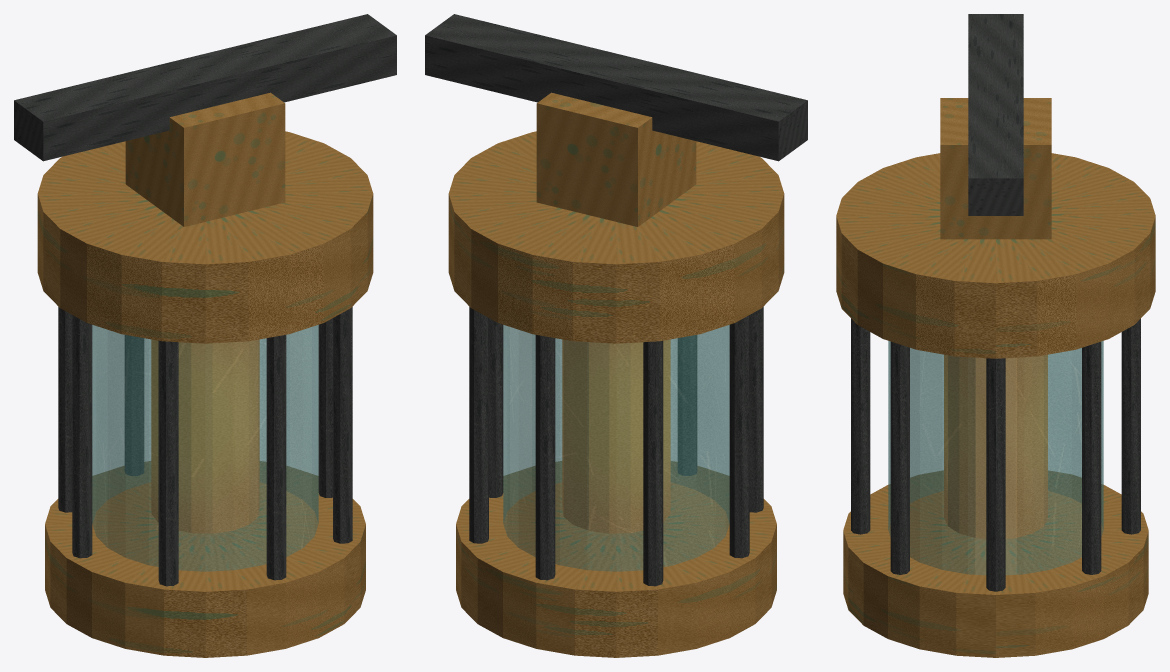
File: SM_LampHousing_Prop.obj
3 views of the same model, side by side, from view 1: azimuth 30°, elevation 25°; view 2: azimuth 150°, elevation 25°; view 3: azimuth 270°, elevation 25° (orthographic). The views are drawn at different scales.
Visible parts, largest first — view 1: Top_BrassCap, Cylindrical_GlassGlobe, Bottom_BrassCap, Iron_CageRods, Lamp_HangingCrossbar, Warm_InnerGlow, Lamp_TopYoke; view 2: Top_BrassCap, Cylindrical_GlassGlobe, Bottom_BrassCap, Iron_CageRods, Lamp_HangingCrossbar, Warm_InnerGlow, Lamp_TopYoke; view 3: Top_BrassCap, Bottom_BrassCap, Cylindrical_GlassGlobe, Iron_CageRods, Warm_InnerGlow, Lamp_HangingCrossbar, Lamp_TopYoke.
Boxes of the visible parts, box(x1,y1,x2,y2) form: Top_BrassCap: box(37, 131, 373, 343); Cylindrical_GlassGlobe: box(92, 325, 318, 571); Bottom_BrassCap: box(45, 461, 365, 657); Iron_CageRods: box(58, 307, 352, 586); Lamp_HangingCrossbar: box(14, 14, 396, 161); Warm_InnerGlow: box(151, 339, 259, 533); Lamp_TopYoke: box(125, 92, 285, 226); Top_BrassCap: box(448, 131, 784, 343); Cylindrical_GlassGlobe: box(503, 325, 729, 571); Bottom_BrassCap: box(456, 461, 776, 657); Iron_CageRods: box(469, 307, 763, 586); Lamp_HangingCrossbar: box(425, 14, 807, 161); Warm_InnerGlow: box(562, 339, 670, 533); Lamp_TopYoke: box(536, 92, 696, 226); Top_BrassCap: box(836, 153, 1155, 358); Bottom_BrassCap: box(843, 470, 1148, 657); Cylindrical_GlassGlobe: box(888, 341, 1103, 575); Iron_CageRods: box(851, 318, 1140, 591); Warm_InnerGlow: box(944, 354, 1047, 538); Lamp_HangingCrossbar: box(968, 14, 1023, 215); Lamp_TopYoke: box(940, 98, 1051, 239).
Size of the model in its own units: 0.56 by 0.79 by 0.46.
Materials: 4 (4 with a texture image).
